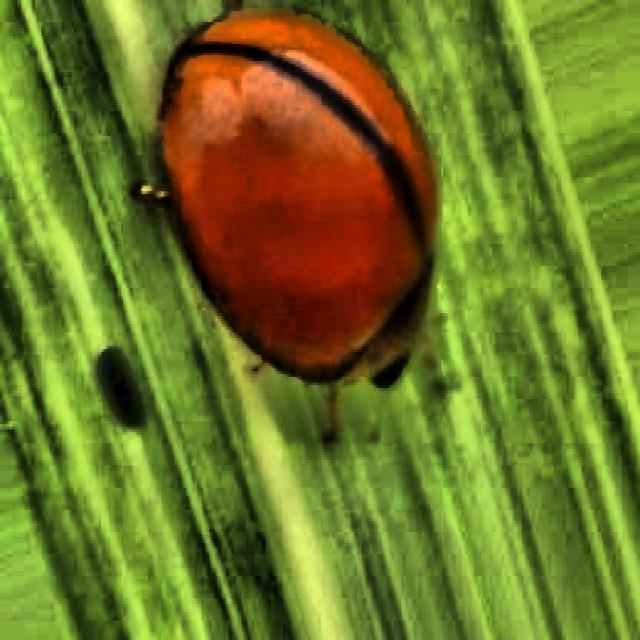Ladybug: (81, 1, 502, 517)
